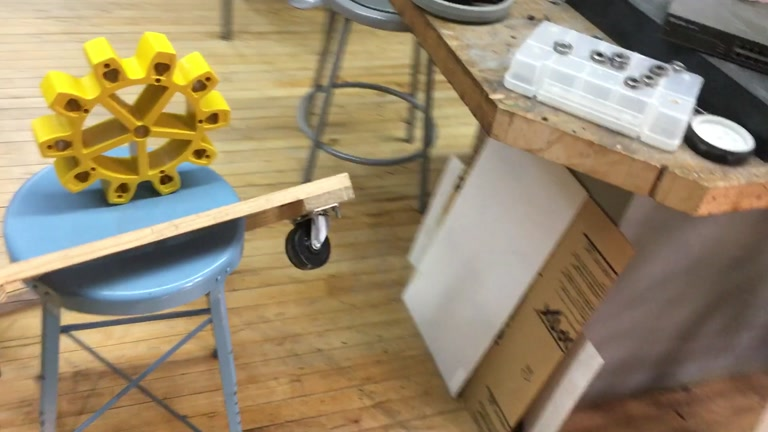gear: (32, 33, 229, 206)
